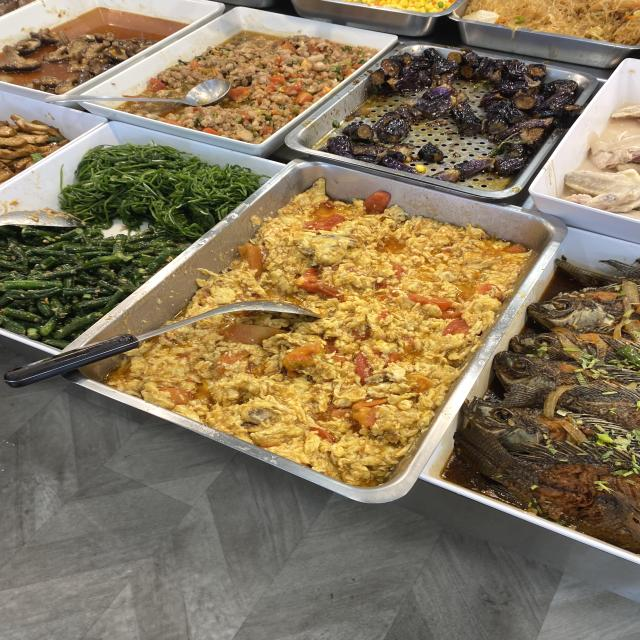Scramble Egg with Tomatoes: (312, 225, 466, 366)
eggplant: (488, 74, 552, 122)
